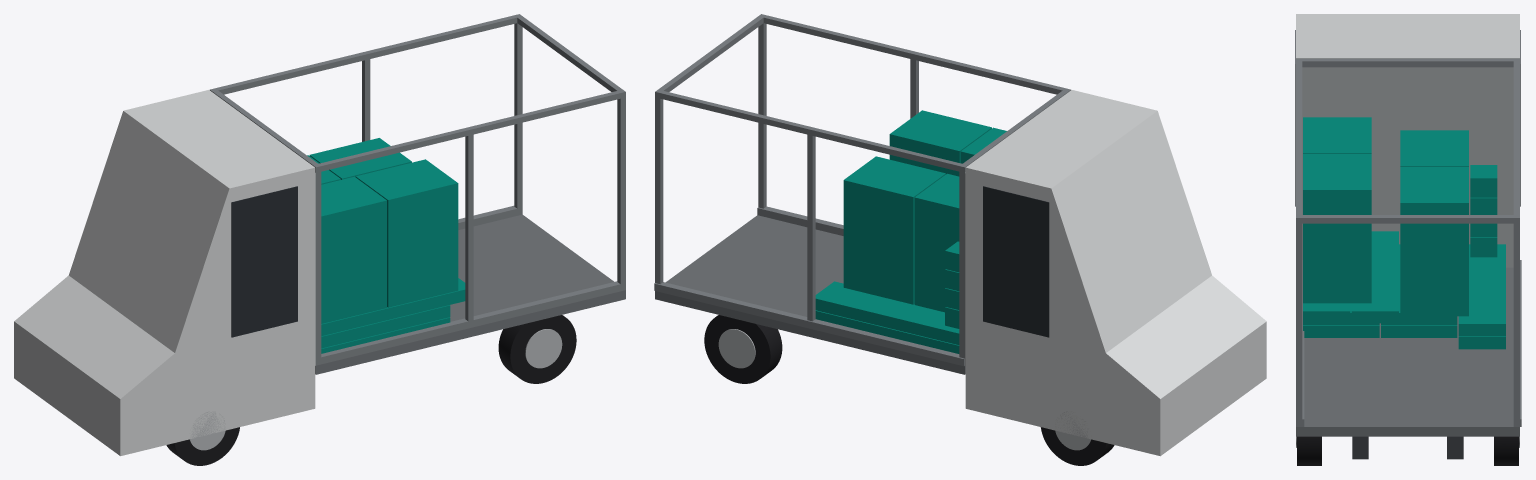
Rendered from van-FD04.glb.
3 views of the same model, side by side, from view 1: azimuth 30°, elevation 25°; view 2: azimuth 150°, elevation 25°; view 3: azimuth 270°, elevation 25° (orthographic). The views are drawn at different scales.
Visible parts, largest first — view 1: cabine, piso, part38, janela, part36, part11, part23, part10, part12, part33, part37, part6 (+12 smaller); view 2: cabine, piso, part37, janela, part35, part32, part38, part13, part25, part12, part10, part7 (+10 smaller); view 3: piso, frente, cabine, part37, part38, part32, part34, part35, part36, part14, part15, part8 (+19 smaller).
Boxes of the visible parts, left/top/right/bottom form: cabine: left=14, top=90, right=315, bottom=456; piso: left=315, top=214, right=625, bottom=374; part38: left=355, top=159, right=458, bottom=307; janela: left=231, top=186, right=297, bottom=337; part36: left=321, top=176, right=386, bottom=323; part11: left=316, top=281, right=625, bottom=364; part23: left=498, top=315, right=576, bottom=383; part10: left=313, top=89, right=625, bottom=172; part12: left=210, top=14, right=522, bottom=94; part33: left=321, top=278, right=465, bottom=336; part37: left=309, top=138, right=411, bottom=179; part6: left=465, top=134, right=473, bottom=328; cabine: left=965, top=90, right=1266, bottom=456; piso: left=655, top=215, right=965, bottom=374; part37: left=843, top=156, right=945, bottom=304; janela: left=983, top=186, right=1049, bottom=337; part35: left=914, top=173, right=959, bottom=312; part32: left=815, top=281, right=959, bottom=344; part38: left=889, top=110, right=991, bottom=176; part13: left=654, top=282, right=964, bottom=366; part25: left=704, top=315, right=782, bottom=383; part12: left=655, top=89, right=967, bottom=172; part10: left=758, top=14, right=1070, bottom=94; part7: left=807, top=134, right=815, bottom=321; piso: left=1296, top=267, right=1519, bottom=436; frente: left=1302, top=67, right=1513, bottom=267; cabine: left=1296, top=14, right=1519, bottom=58; part37: left=1400, top=167, right=1468, bottom=316; part38: left=1303, top=154, right=1371, bottom=303; part32: left=1458, top=244, right=1505, bottom=336; part34: left=1351, top=231, right=1398, bottom=323; part35: left=1400, top=130, right=1468, bottom=166; part36: left=1303, top=117, right=1371, bottom=153; part14: left=1302, top=58, right=1517, bottom=67; part15: left=1296, top=215, right=1519, bottom=223; part8: left=1296, top=223, right=1302, bottom=426.
Bounding box in the file's own units: 5.19 × 2.66 × 1.91.
